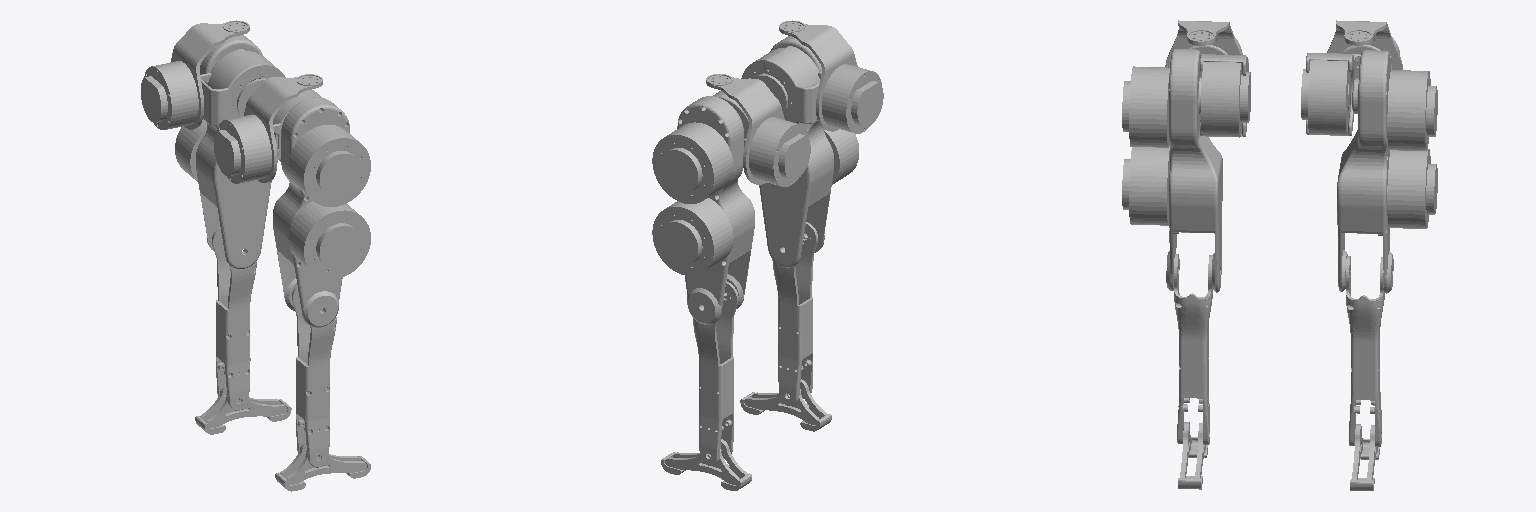
URDF robot description (Humanoid):
<?xml version="1.0" encoding="utf-8"?>
<robot name="Humanoid">

<link 
  name="base">
  <inertial>
    <origin 
      xyz="0.05788472573346974 0.059610530571960814 0.1530054548610727" 
      rpy="0 0 0"/>
    <mass 
      value="9.733256227883512"/>
    <inertia 
      ixx="0.8004245103272555" 
      iyy="0.5537216648299893" 
      izz="0.2992817251792882" 
      ixy="-3.135710702524552e-05" 
      iyz="-5.786792059755963e-05" 
      ixz="-0.015612929444345142"/>
  </inertial>
  <visual>
    <origin 
      xyz="0 0 0.2" 
      rpy="0 0 1.5"/>
    <geometry>
      <mesh 
        filename="STLs/simplify_torso low quality.stl" 
        scale="0.001 -0.001 0.001"/>
    </geometry>
    <material name="silver">
        <color rgba="0.752941176470588 0.752941176470588 0.752941176470588 1" />
      </material>
  </visual>
  <collision>
    <origin rpy="0 0 1.5" xyz="0.0 0.0 0.15"/>
    <geometry>
      <box size="0.3 0.12 0.35"/>
    </geometry>
  </collision>
</link>

<link 
  name="right_hip_yaw">
  <inertial>
    <origin 
      xyz="-0.10160165552883052 3.789498289055726e-05 -0.08509638780752743" 
      rpy="0 0 0"/>
    <mass 
      value="0.9976560754135636"/>
    <inertia 
      ixx="0.001733" 
      iyy="0.001836" 
      izz="0.001258" 
      ixy="-1e-06" 
      iyz="-1e-06" 
      ixz="-0.000481"/>
  </inertial>
  <visual>
    <!--<origin xyz="-0.11 0.0 -0.29" rpy="0 0 0"/>-->
    <origin 
      xyz="0.0 0.0 0.0" 
      rpy="0 0 1.5"/>
    <geometry>
      <mesh 
        filename="STLs/hip abduct.stl" 
        scale="0.001 0.001 0.001"/>
    </geometry>
    <material name="silver">
        <color rgba="0.752941176470588 0.752941176470588 0.752941176470588 1" />
      </material>
  </visual>
</link>

<link 
  name="right_hip_abad">
  <inertial>
    <origin  
      xyz="0.06206149605048397 0.036399012141839424 1.6388564219010915e-05" 
      rpy="0 0 0"/>
    <mass 
      value="2.0442329182864585"/>
    <inertia 
      ixx="0.002775" 
      iyy="0.004202" 
      izz="0.003238" 
      ixy="-0.000191" 
      iyz="0.0" 
      ixz="3e-06"/>
  </inertial>
  <visual>
    <!--<origin xyz="-0.11 0.075 -0.3815" rpy="0 0 0"/>-->
    <origin 
      xyz="0.0 0.0 0.0" 
      rpy="0 0 1.5"/>
    <geometry>
      <mesh 
        filename="STLs/hip flex 1.stl" 
        scale="0.001 0.001 0.001"/>
    </geometry>
    <material name="silver">
        <color rgba="0.752941176470588 0.752941176470588 0.752941176470588 1" />
      </material>
  </visual>
</link>

<link 
  name="right_upper_leg">
  <inertial>
    <origin 
      xyz="3.393818076067292e-06 -0.046396593512985584 -0.09313945670054535" 
      rpy="0 0 0"/>
    <mass 
      value="4.3536877020835725"/>
    <inertia 
      ixx="0.033411" 
      iyy="0.031523" 
      izz="0.007717" 
      ixy="-0.0" 
      iyz="0.002968" 
      ixz="2e-06"/>
  </inertial>
  <visual>
    <!--<origin xyz="-0.1 0.0 -0.3815" rpy="0 0 0"/>-->
    <origin 
      xyz="0.0 0.0 0.0" 
      rpy="0 0 1.5"/>
    <geometry>
      <mesh 
        filename="STLs/thigh.stl" 
        scale="0.001 0.001 0.001"/>
    </geometry>
    <material name="silver">
        <color rgba="0.752941176470588 0.752941176470588 0.752941176470588 1" />
      </material>
  </visual>
  <collision>
    <origin rpy="0 0 1.5" xyz="-0.02 0.0 -0.16"/>
    <geometry>
        <cylinder radius="0.035" length="0.15"/>
      </geometry>
    </collision>
</link>

<link 
  name="right_lower_leg">
  <inertial>
    <origin 
      xyz="0.0021406088386680257 -0.029369373463310464 -0.1034811103988495" 
      rpy="0 0 0"/>
    <mass 
      value="0.6491286458131267"/>
    <inertia 
      ixx="0.00514" 
      iyy="0.005112" 
      izz="0.000291" 
      ixy="-4e-06" 
      iyz="0.000149" 
      ixz="-7e-05"/>
  </inertial>
  <visual>
    <!--<origin xyz="-0.12 0.0 -0.6545" rpy="0 0 0"/>-->
    <origin 
      xyz="0.0 0.0 0.0" 
      rpy="0 0 1.5"/>
    <geometry>
      <mesh 
        filename="STLs/shank.stl" 
        scale="0.001 0.001 0.001"/>
    </geometry>
    <material name="silver">
        <color rgba="0.752941176470588 0.752941176470588 0.752941176470588 1" />
      </material>
  </visual>
  <collision>
    <origin rpy="0 0 1.5" xyz="0.0 0.0 -0.15"/>
    <geometry>
      <cylinder radius="0.035" length="0.15"/>
    </geometry>
  </collision>
</link>

<link name="right_foot">
  <inertial>
    <origin 
      xyz="0.011157853770708784 -0.014309008341845009 -0.023348929042598665" 
      rpy="0 0 0"/>
    <mass 
      value="0.21123130775759938"/>
    <inertia 
      ixx="9.1e-05" 
      iyy="0.0004" 
      izz="0.000347" 
      ixy="0.0" 
      iyz="-1e-06" 
      ixz="3e-05"/>
  </inertial>
  <visual>
    <!--<origin xyz="-0.12 0.0 -0.9045" rpy="0 0 0"/>-->
    <origin 
      xyz="0.0 0.0 0.0" 
      rpy="0 0 1.5"/>
    <geometry>
      <mesh 
        filename="STLs/FOOT.stl" 
        scale="0.001 0.001 0.001"/>
    </geometry>
    <material name="silver">
        <color rgba="0.752941176470588 0.752941176470588 0.752941176470588 1" />
      </material>
  </visual>
  <collision>
      <origin rpy="1.57079 0 0" xyz="-0.0 -0.01 -0.03"/>
        <geometry>
          <box size="0.17 0.02 0.05"/>
        </geometry>
  </collision>
</link>

<link name="left_hip_yaw">
  <inertial>
    <origin 
      xyz="-0.10160165552883074 3.789498289055726e-05 -0.08509638780752746" 
      rpy="0 0 0"/>
    <mass 
      value="0.997656075413564"/>
    <inertia 
      ixx="0.001733" 
      iyy="0.001836" 
      izz="0.001258" 
      ixy="-1e-06" 
      iyz="-1e-06" 
      ixz="-0.000481"/>
  </inertial>
  <visual>
    <!--<origin xyz="0.11 0.0 -0.29" rpy="0 0 0"/>-->
    <origin 
      xyz="0.0 0.0 0.0" 
      rpy="0 0 1.5"/>
    <geometry>
      <mesh 
        filename="STLs/hip abduct.stl" 
        scale="0.001 0.001 0.001"/>
    </geometry>
    <material name="silver">
        <color rgba="0.752941176470588 0.752941176470588 0.752941176470588 1" />
      </material>
  </visual>
</link>

<link 
  name="left_hip_abad">
  <inertial>
    <origin 
      xyz="0.062061496050483875 -0.03639901214183931 -1.6388564214431245e-05" 
      rpy="0 0 0"/>
    <mass 
      value="2.0442329182864616"/>
    <inertia 
      ixx="0.002775" 
      iyy="0.004202" 
      izz="0.003238" 
      ixy="0.000191" 
      iyz="0.0" 
      ixz="-3e-06"/>
  </inertial>
  <visual>
    <!--<origin xyz="0.11 0.075 -0.3815" rpy="0 0 0"/>-->
    <origin 
      xyz="0.0 0.0 0.0" 
      rpy="0 0 1.5"/>
    <geometry>
      <mesh 
        filename="STLs/hip flex 1.stl" 
        scale="-0.001 0.001 0.001"/>
    </geometry>
    <material name="silver">
        <color rgba="0.752941176470588 0.752941176470588 0.752941176470588 1" />
      </material>
  </visual>
</link>

<link name="left_upper_leg">
  <inertial>
    <origin 
      xyz="3.392950410869689e-06 0.04639659964536694 -0.09313942319562427" 
      rpy="0 0 0"/>
    <mass 
      value="4.353686864474232"/>
    <inertia 
      ixx="0.033411" 
      iyy="0.031523" 
      izz="0.007717" 
      ixy="0.0" 
      iyz="-0.002968" 
      ixz="2e-06"/>
  </inertial>
  <visual>
    <!--<origin xyz="0.1 0.0 -0.3815" rpy="0 0 0"/>-->
    <origin 
      xyz="0.0 0.0 0.0" 
      rpy="0 0 1.5"/>
    <geometry>
      <mesh 
        filename="STLs/thigh.stl" 
        scale="-0.001 0.001 0.001"/>
    </geometry>
    <material name="silver">
        <color rgba="0.752941176470588 0.752941176470588 0.752941176470588 1" />
      </material>
  </visual>
  <collision>
    <origin rpy="0 0 1.5" xyz="0.02 0.0 -0.16"/>
    <geometry>
        <cylinder radius="0.035" length="0.15"/>
      </geometry>
    </collision>
</link>

<link name="left_lower_leg">
  <inertial>
    <origin 
      xyz="0.002140611479247496 0.029369371975319927 -0.103481106043327" 
      rpy="0 0 0"/>
    <mass 
      value="0.6491285472014533"/>
    <inertia 
      ixx="0.00514" 
      iyy="0.005112" 
      izz="0.000291" 
      ixy="4e-06" 
      iyz="-0.000149" 
      ixz="-7e-05"/>
  </inertial>
  <visual>
    <!--<origin xyz="0.12 0.0 -0.6545" rpy="0 0 0"/>-->
    <origin 
      xyz="0.0 0.0 0.0" 
      rpy="0 0 1.5"/>
    <geometry>
      <mesh 
        filename="STLs/shank.stl" 
        scale="0.001 0.001 0.001"/>
    </geometry>
    <material name="silver">
        <color rgba="0.752941176470588 0.752941176470588 0.752941176470588 1" />
      </material>
  </visual>
  <collision>
    <origin rpy="0 0 1.5" xyz="0.0 0.0 -0.15"/>
    <geometry>
      <cylinder radius="0.035" length="0.15"/>
    </geometry>
  </collision>

</link>

<link 
  name="left_foot">
  <inertial>
    <origin 
      xyz="0.011157853647402547 0.014691253562940862 -0.02334890746391094" 
      rpy="0 0 0"/>
    <mass 
      value="0.21123130775759935"/>
    <inertia 
      ixx="9.1e-05" 
      iyy="0.0004" 
      izz="0.000347" 
      ixy="0.0" 
      iyz="-1e-06" 
      ixz="3e-05"/>
  </inertial>
  <visual>
    <!--<origin xyz="0.12 0.0 -0.9045" rpy="0 0 0"/>-->
    <origin 
      xyz="0.0 0.0 0.0" 
      rpy="0 0 1.5"/>
    <geometry>
      <mesh 
        filename="STLs/FOOT.stl" 
        scale="0.001 0.001 0.001"/>
    </geometry>
    <material name="silver">
        <color rgba="0.752941176470588 0.752941176470588 0.752941176470588 1" />
      </material>
  </visual>
  <collision>
      <origin rpy="1.57079 0 0" xyz="-0.0 -0.01 -0.03"/>
        <geometry>
          <box size="0.17 0.02 0.05"/>
        </geometry>
  </collision>
</link>


<joint 
  name="left_hip_yaw" 
  type="revolute">
  <origin 
    xyz="0.0 0.11 -0.09" 
    rpy="0 0 0"/>
  <parent 
    link="base"/>
  <child 
    link="left_hip_yaw"/>
  <axis 
    xyz="0.0 0.0 -1.0"/>
        <limit effort="52" lower="-6.28" upper="6.28" velocity="50"/>
    <dynamics damping="0.0" friction="0.0" rotor_inertia="0.01188"/>
</joint>

<joint 
  name="left_hip_abad" 
  type="revolute">
  <origin 
    xyz="-0.075 0.0 -0.0915" 
    rpy="0 0 0"/>
  <parent 
    link="left_hip_yaw"/>
  <child 
    link="left_hip_abad"/>
  <axis 
    xyz="1.0 0.0 0.0"/>
        <limit effort="52" lower="-6.28" upper="6.28" velocity = "50"/>
    <dynamics damping="0.0" friction="0.0" rotor_inertia="0.01188"/>
</joint>

<joint 
  name="left_hip_pitch" 
  type="revolute">
  <origin 
    xyz="0.075 -0.01 0.0" 
    rpy="0 0 0"/>
  <parent 
    link="left_hip_abad"/>
  <child 
    link="left_upper_leg"/>
  <axis 
    xyz="0.0 1.0 0.0"/>
        <limit effort="72" lower="-6.28" upper="6.28" velocity="50"/>
    <dynamics damping="0.0" friction="0.0" rotor_inertia="0.0198"/>
</joint>

<joint 
  name="left_knee" 
  type="revolute">
  <origin 
    xyz="0.0 0.02 -0.273" 
    rpy="0 0 0"/>
  <parent 
    link="left_upper_leg"/>
  <child 
    link="left_lower_leg"/>
  <axis 
    xyz="0.0 1.0 0.0"/>
      <limit effort="144" lower="0." upper="3." velocity="25"/>
    <dynamics damping="0.0" friction="0.0" rotor_inertia="0.01188"/>
</joint>

<joint 
  name="left_ankle" 
  type="revolute">
  <origin 
    xyz="0.0 0.0 -0.25" 
    rpy="0 0 0"/>
  <parent 
    link="left_lower_leg"/>
  <child 
    link="left_foot"/>
  <axis 
    xyz="0.0 1.0 0.0"/>
        <limit effort="72" lower="-1.5" upper="1.5" velocity="25"/>
    <dynamics damping="0.0" friction="0.0" rotor_inertia="0.04752"/>
</joint>

<joint 
  name="right_hip_yaw" 
  type="revolute">
  <origin 
    xyz="0.0 -0.11 -0.09" 
    rpy="0 0 0"/>
  <parent 
    link="base"/>
  <child 
    link="right_hip_yaw"/>
  <axis 
    xyz="0.0 0.0 1.0"/>
        <limit effort="52" lower="-6.28" upper="6.28" velocity="50"/>
    <dynamics damping="0.0" friction="0.0" rotor_inertia="0.01188"/>
</joint>

<joint 
  name="right_hip_abad" 
  type="revolute">
  <origin 
    xyz="-0.075 0.0 -0.0915" 
    rpy="0 0 0"/>
  <parent 
    link="right_hip_yaw"/>
  <child 
    link="right_hip_abad"/>
  <axis 
    xyz="-1.0 0.0 0.0"/>
        <limit effort="52" lower="-6.28" upper="6.28" velocity = "50"/>
    <dynamics damping="0.0" friction="0.0" rotor_inertia="0.01188"/>
</joint>

<joint 
  name="right_hip_pitch" 
  type="revolute">
  <origin 
    xyz="0.075 0.01 0.0" 
    rpy="0 0 0"/>
  <parent 
    link="right_hip_abad"/>
  <child 
    link="right_upper_leg"/>
  <axis 
    xyz="0.0 1.0 0.0"/>
        <limit effort="72" lower="-6.28" upper="6.28" velocity="50"/>
    <dynamics damping="0.0" friction="0.0" rotor_inertia="0.0198"/>
</joint>

<joint 
  name="right_knee" 
  type="revolute">
  <origin 
    xyz="0.0 -0.02 -0.27" 
    rpy="0 0 0"/>
  <parent 
    link="right_upper_leg"/>
  <child 
    link="right_lower_leg"/>
  <axis 
    xyz="0.0 1.0 0.0"/>
        <limit effort="144" lower="0." upper="3.0" velocity="25"/>
    <dynamics damping="0.0" friction="0.0" rotor_inertia="0.01188"/>
</joint>

<joint 
  name="right_ankle" 
  type="revolute">
  <origin 
    xyz="0.0 0.0 -0.25" 
    rpy="0 0 0"/>
  <parent 
    link="right_lower_leg"/>
  <child 
    link="right_foot"/>
  <axis 
    xyz="0.0 1.0 0.0"/>
        <limit effort="72" lower="-1.5" upper="1.5" velocity="25"/>
    <dynamics damping="0.0" friction="0.0" rotor_inertia="0.04752"/>
</joint>



</robot>

--- Facts derived from the render (not from the file) ---
Views: 3 orthographic renders of the robot side by side, from view 1: azimuth 30°, elevation 25°; view 2: azimuth 150°, elevation 25°; view 3: azimuth 270°, elevation 25°.
Model Humanoid with 11 links and 10 joints (10 revolute), rooted at base, posed every joint at zero.
Links seen in each view (by area): view 1: right_upper_leg, left_upper_leg, right_hip_yaw, left_hip_yaw, left_lower_leg, right_lower_leg, left_hip_abad, left_foot, right_foot, right_hip_abad; view 2: left_upper_leg, right_upper_leg, left_hip_yaw, right_hip_yaw, left_lower_leg, right_lower_leg, right_hip_abad, right_foot, left_foot; view 3: left_upper_leg, right_upper_leg, right_lower_leg, left_hip_abad, left_lower_leg, right_hip_abad, left_hip_yaw, right_hip_yaw, right_foot, left_foot.
Link boxes in pixels (x1,y1,x2,y2): right_upper_leg: (273,97,370,327); left_upper_leg: (175,35,271,268); right_hip_yaw: (214,74,322,183); left_hip_yaw: (141,20,249,129); left_lower_leg: (212,227,256,410); right_lower_leg: (292,285,336,467); left_hip_abad: (200,49,285,125); left_foot: (195,384,291,434); right_foot: (275,441,370,491); right_hip_abad: (273,90,321,161); left_upper_leg: (652,96,754,324); right_upper_leg: (759,36,858,267); left_hip_yaw: (706,74,810,186); right_hip_yaw: (779,20,883,133); left_lower_leg: (693,281,738,465); right_lower_leg: (772,222,817,405); right_hip_abad: (741,46,821,123); right_foot: (740,379,831,431); left_foot: (661,439,751,490); left_upper_leg: (1337,50,1437,293); right_upper_leg: (1122,49,1222,292); right_lower_leg: (1174,254,1212,444); left_hip_abad: (1301,53,1360,135); left_lower_leg: (1346,256,1384,446); right_hip_abad: (1200,54,1250,137); left_hip_yaw: (1327,20,1402,69); right_hip_yaw: (1165,20,1242,67); right_foot: (1178,422,1207,489); left_foot: (1350,424,1379,490).
Bounding box of the posed robot: 0.2356 × 0.441 × 0.666 m (x, y, z).
Meshes: 6 distinct files referenced, 10 mesh visuals loaded (5 binary STL); not drawn: 1 (reference not matched to a file when rendering).